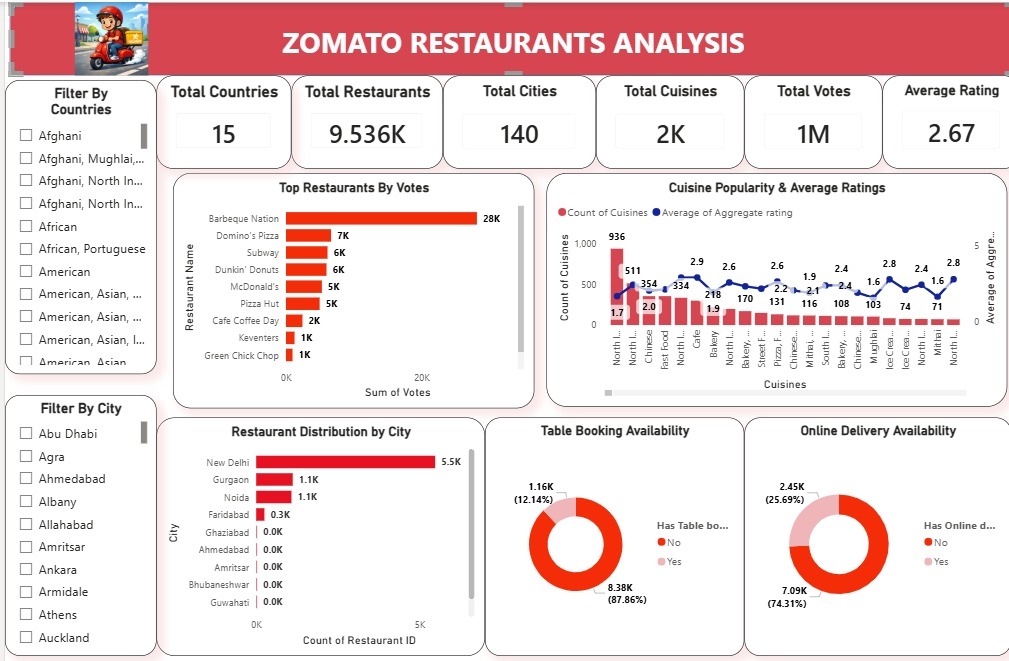

Layout of this report page (visuals, bound fields, positions):
{"tool":"powerbi","page":{"name":"DASHBOARD","canvas":[1301,860],"ordinal":0},"visuals":[{"type":"shape","box":[5.8,0,1290.8,94.1],"z":0},{"type":"cardVisual","title":"Total Restaurants","fields":{"Data":["CountNonNull(zomato.Restaurant ID)"]},"box":[366.9,94.1,194,119.1],"z":1000},{"type":"cardVisual","title":"Total Cities","fields":{"Data":["zomato.TOTAL CITIES"]},"box":[560.9,94.1,195.9,119.1],"z":2000},{"type":"cardVisual","title":"Total Cuisines","fields":{"Data":["zomato.TOTAL CUISINES"]},"box":[756.8,94.1,190.2,119.1],"z":3000},{"type":"cardVisual","title":"Total Votes","fields":{"Data":["Sum(zomato.Votes)"]},"box":[946.9,94.1,176.7,119.1],"z":4000},{"type":"clusteredBarChart","title":"Top Restaurants By Votes","fields":{"Category":["zomato.Restaurant Name"],"Y":["Sum(zomato.Votes)"]},"box":[215.1,219,462.9,301.6],"z":5000},{"type":"donutChart","title":"Table Booking Availability","fields":{"Y":["CountNonNull(zomato.Restaurant ID)"],"Category":["zomato.Has Table booking"]},"box":[614.7,532.1,332.3,305.4],"z":6000},{"type":"clusteredBarChart","title":"Restaurant Distribution by City","fields":{"Y":["CountNonNull(zomato.Restaurant ID)"],"Category":["zomato.City"]},"box":[194,532.1,420.7,305.4],"z":7000},{"type":"cardVisual","title":"Average Rating","fields":{"Data":["zomato.AVERAGE RATING"]},"box":[1123.7,94.1,176.7,119.1],"z":8000},{"type":"lineStackedColumnComboChart","title":"Cuisine Popularity & Average Ratings","fields":{"Category":["zomato.Cuisines"],"Y":["CountNonNull(zomato.Cuisines)"],"Y2":["Avg(zomato.Aggregate rating)"]},"box":[693.4,219,589.7,299.6],"z":9000},{"type":"cardVisual","title":"Total Countries","fields":{"Data":["zomato.TOTAL COUNTRIES"]},"box":[194,94.1,172.9,119.1],"z":10000},{"type":"donutChart","title":"Online Delivery Availability","fields":{"Y":["CountNonNull(zomato.Restaurant ID)"],"Category":["zomato.Has Online delivery"]},"box":[946.9,532.1,341.9,305.4],"z":11000},{"type":"slicer","title":"Filter By Countries","fields":{"Values":["zomato.Cuisines"]},"box":[0,99.9,194,376.5],"z":12000},{"type":"slicer","title":"Filter By City","fields":{"Values":["zomato.City"]},"box":[0,503.2,194,334.2],"z":13000},{"type":"image","box":[78.8,0,115.2,94.1],"z":14000}]}

Visuals, with their boxes in screenshot pixels (x1, y1, x2, y2), scaled from the page's 1301x860 canvas onto the 1009x661 screenshot:
shape: bbox(4, 0, 1006, 72)
"Total Restaurants" cardVisual: bbox(285, 72, 435, 164)
"Total Cities" cardVisual: bbox(435, 72, 587, 164)
"Total Cuisines" cardVisual: bbox(587, 72, 734, 164)
"Total Votes" cardVisual: bbox(734, 72, 871, 164)
"Top Restaurants By Votes" clusteredBarChart: bbox(167, 168, 526, 400)
"Table Booking Availability" donutChart: bbox(477, 409, 734, 644)
"Restaurant Distribution by City" clusteredBarChart: bbox(150, 409, 477, 644)
"Average Rating" cardVisual: bbox(871, 72, 1008, 164)
"Cuisine Popularity & Average Ratings" lineStackedColumnComboChart: bbox(538, 168, 995, 399)
"Total Countries" cardVisual: bbox(150, 72, 285, 164)
"Online Delivery Availability" donutChart: bbox(734, 409, 1000, 644)
"Filter By Countries" slicer: bbox(0, 77, 150, 366)
"Filter By City" slicer: bbox(0, 387, 150, 644)
image: bbox(61, 0, 150, 72)
